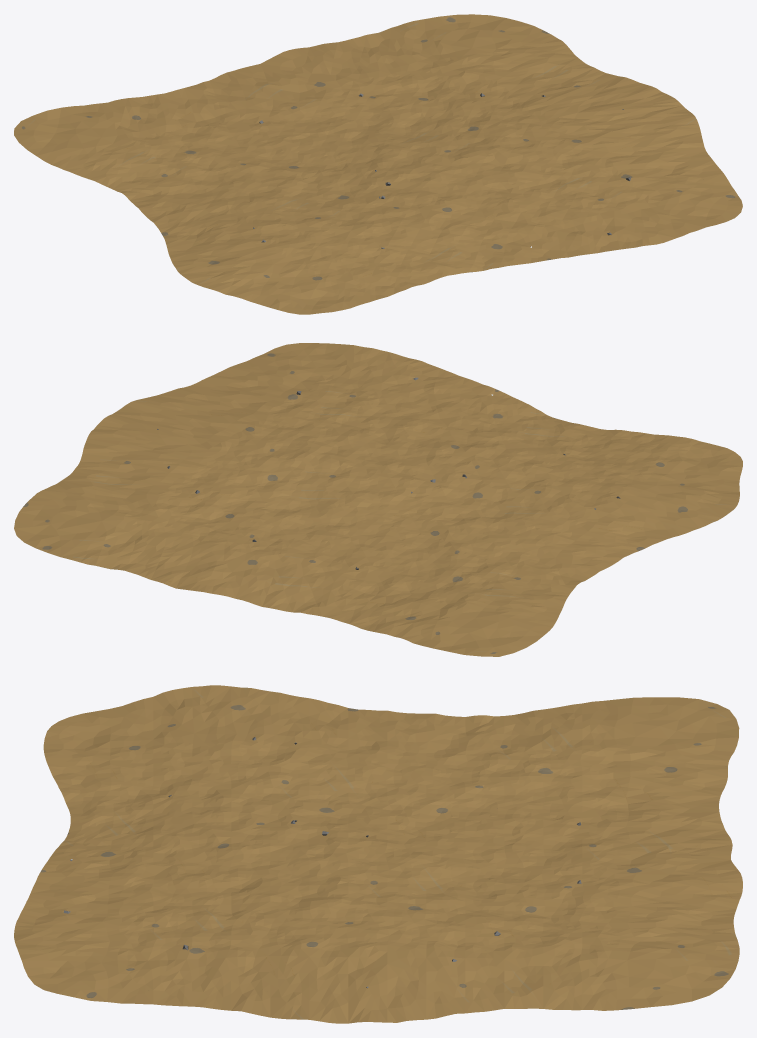
Rendered from ground111.fbx.
The picture shows the model from 3 angles, top to bottom: view 1: azimuth 30°, elevation 25°; view 2: azimuth 150°, elevation 25°; view 3: azimuth 270°, elevation 25°; orthographic projection. The views are drawn at different scales.
Parts seen in each view (by area): view 1: Cube; view 2: Cube; view 3: Cube.
Boxes of the visible parts, x1,y1,x2,y2 form: Cube: [14, 14, 742, 314]; Cube: [14, 343, 742, 656]; Cube: [14, 685, 742, 1023].
Size of the model in its own units: 34.76 by 31.59 by 0.7855.
Materials: 2 (1 with a texture image).
